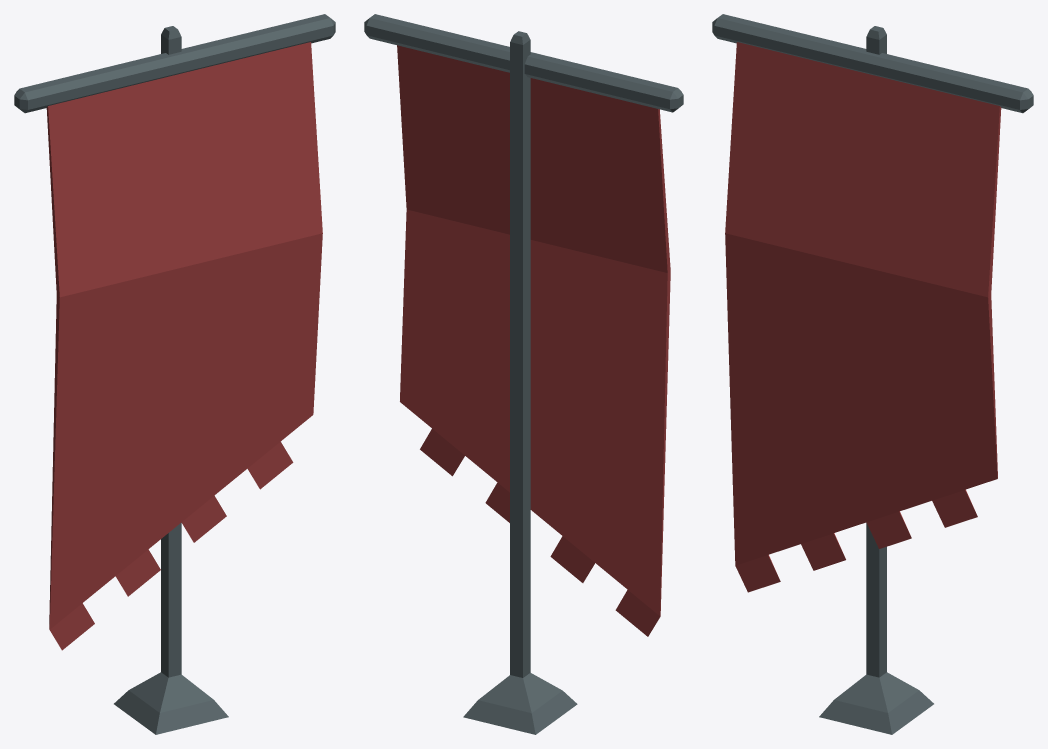
The model's file is Banner_5_Red.fbx.
The picture shows the model from 3 angles, left to right: view 1: azimuth 30°, elevation 25°; view 2: azimuth 150°, elevation 25°; view 3: azimuth 330°, elevation 25°; orthographic projection.
Parts seen in each view (by area): view 1: Banner_5_Red_Part_2, Banner_5_Red_Part_1; view 2: Banner_5_Red_Part_2, Banner_5_Red_Part_1; view 3: Banner_5_Red_Part_2, Banner_5_Red_Part_1.
Part boxes in pixels (left/top/right/bottom): Banner_5_Red_Part_2: left=46, top=42, right=322, bottom=650; Banner_5_Red_Part_1: left=14, top=14, right=335, bottom=734; Banner_5_Red_Part_2: left=397, top=45, right=670, bottom=636; Banner_5_Red_Part_1: left=364, top=14, right=683, bottom=734; Banner_5_Red_Part_2: left=725, top=42, right=1001, bottom=592; Banner_5_Red_Part_1: left=712, top=14, right=1033, bottom=734.
Bounding box in the file's own units: 146 × 300 × 33.74.
